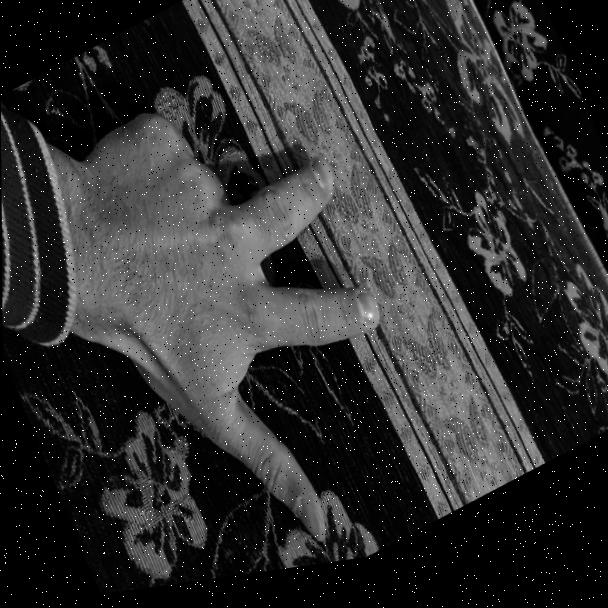three: (23, 0, 454, 605)
